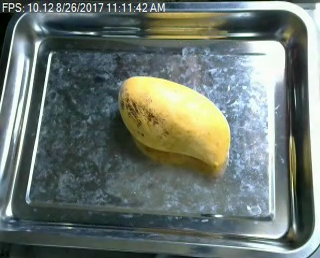Mango: (115, 75, 238, 173)
